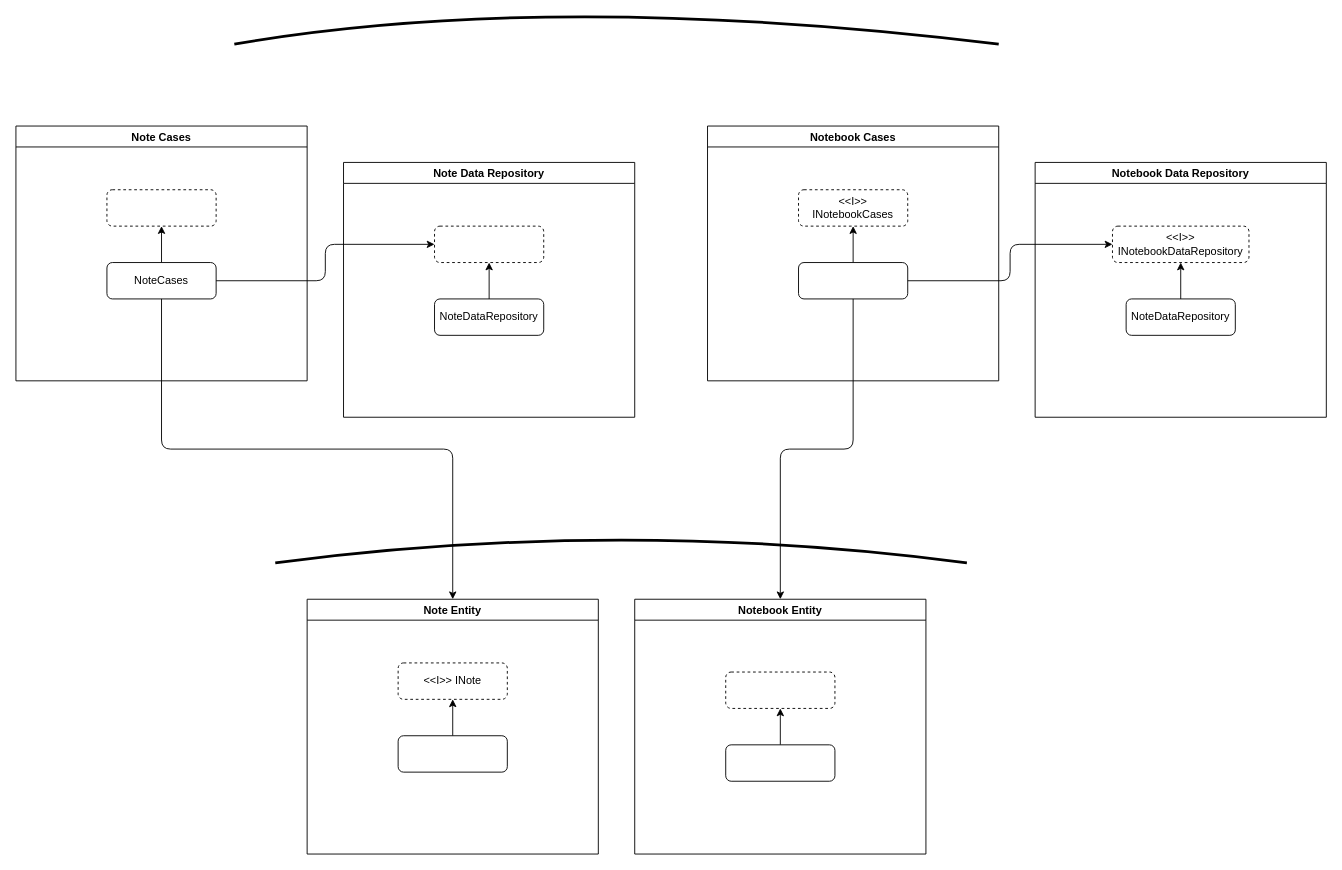
Image size: 1342x870. Some labels were removed from this diagram. The shapes that lost their labels are listed below. From the top down, each one's centre as x and y in pixels, then its label:
At [161,207]: "<<I>> INoteCases".
At [489,244]: "<<I>> INoteDataRepository".
At [853,280]: "NotebookCases".
At [780,689]: "<<I>> INotebook".
At [452,753]: "Note".
At [780,762]: "Notebook".
